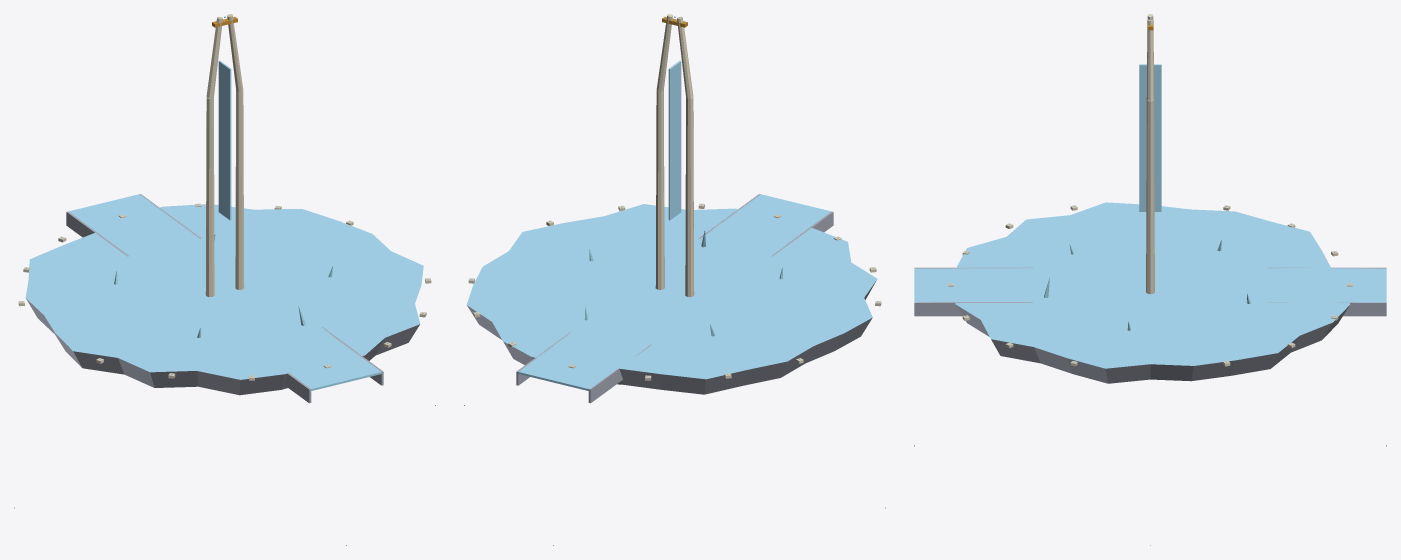
Rendered from chunk_es_aether_falls.fbx.
3 views of the same model, side by side, from view 1: azimuth 30°, elevation 25°; view 2: azimuth 150°, elevation 25°; view 3: azimuth 270°, elevation 25° (orthographic). The views are drawn at different scales.
Parts seen in each view (by area): view 1: ES_AETHER_FALLS; view 2: ES_AETHER_FALLS; view 3: ES_AETHER_FALLS.
Part boxes in pixels (x1=…): ES_AETHER_FALLS: x1=14, y1=14, x2=435, y2=545; ES_AETHER_FALLS: x1=464, y1=14, x2=885, y2=545; ES_AETHER_FALLS: x1=914, y1=14, x2=1386, y2=545.
Bounding box in the file's own units: 256 × 256 × 256.
